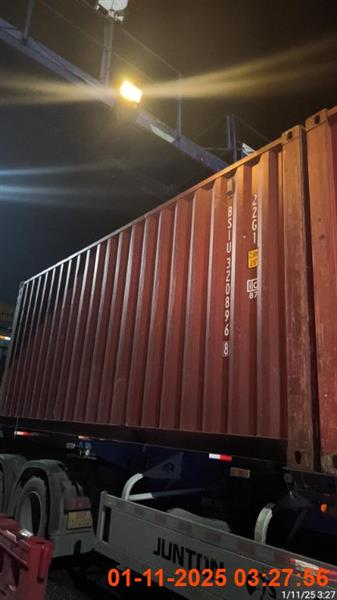broken: (0, 105, 335, 573)
